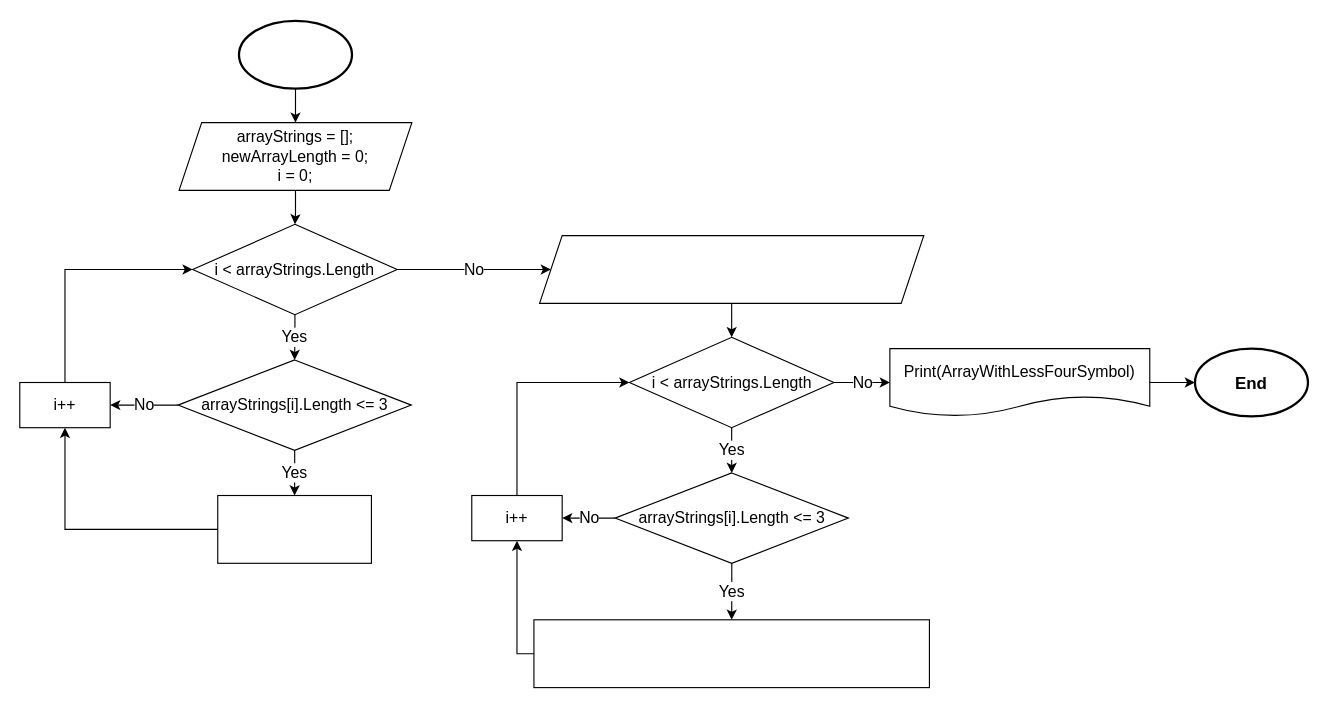
Image size: 1329x707. Some labels were removed from this diagram. The box of each missing label's shape, as (x1, y1, x2, y2) in pixels:
ArrayWithLessFourSymbol = [newArrayLength]; counter = 0; i = 0;: (538, 234, 924, 303)
ArrayWithLessFourSymbol[counter] = arrayStrings[i]; counter++;: (533, 619, 929, 688)
newArrayLength++: (217, 494, 371, 563)
Start: (237, 19, 353, 89)
